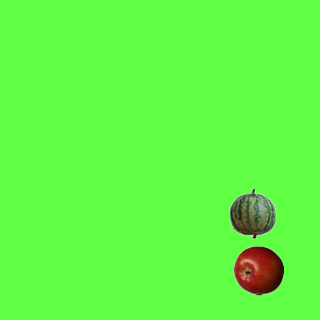Apple Braeburn: (233, 245, 283, 295)
Watermelon: (227, 188, 277, 238)
